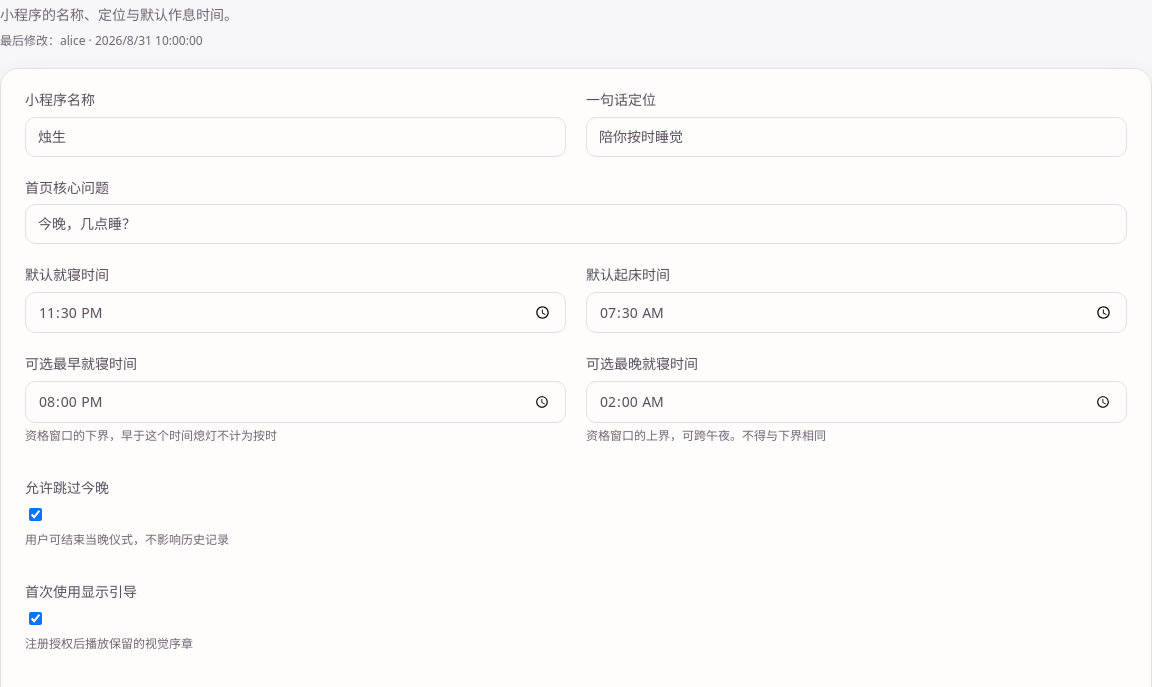
Test case: 基础设置页 › 改动后先走 dry_run，再弹确认窗展示 diff
Replace the text in the field labelled "一句话定位" with "陪你好好睡" at coordinates (856, 137), box [586, 117, 1127, 157]
(page scrolled)
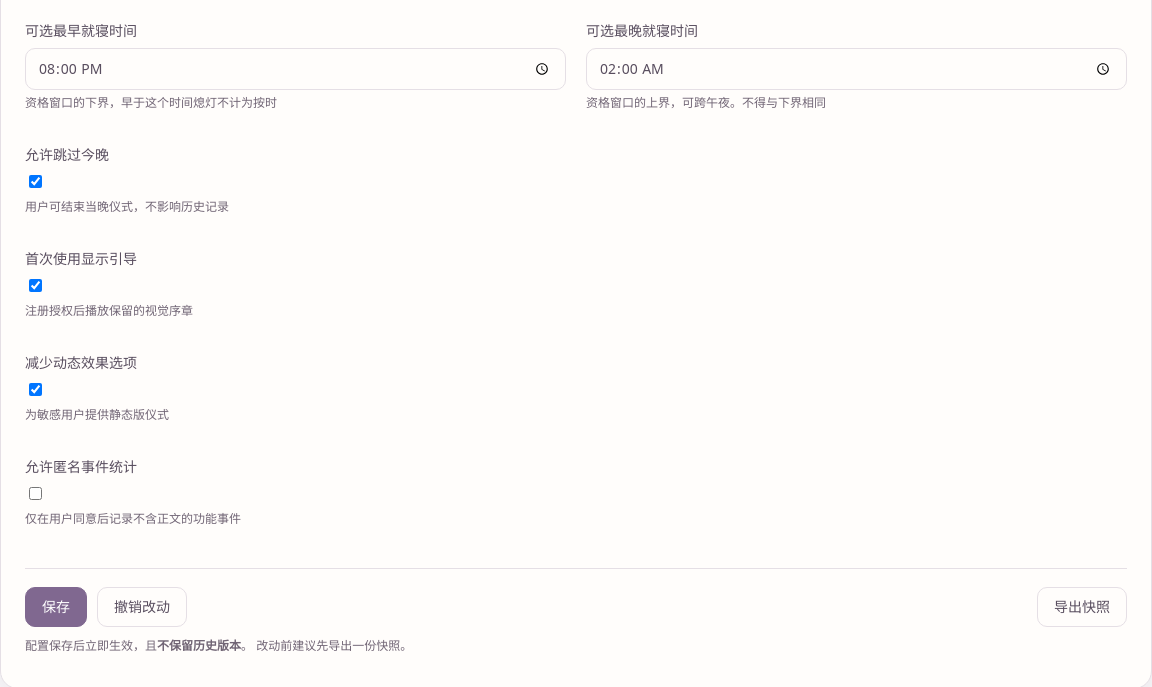
Click the button "保存" at coordinates (56, 607), box [25, 587, 87, 627]
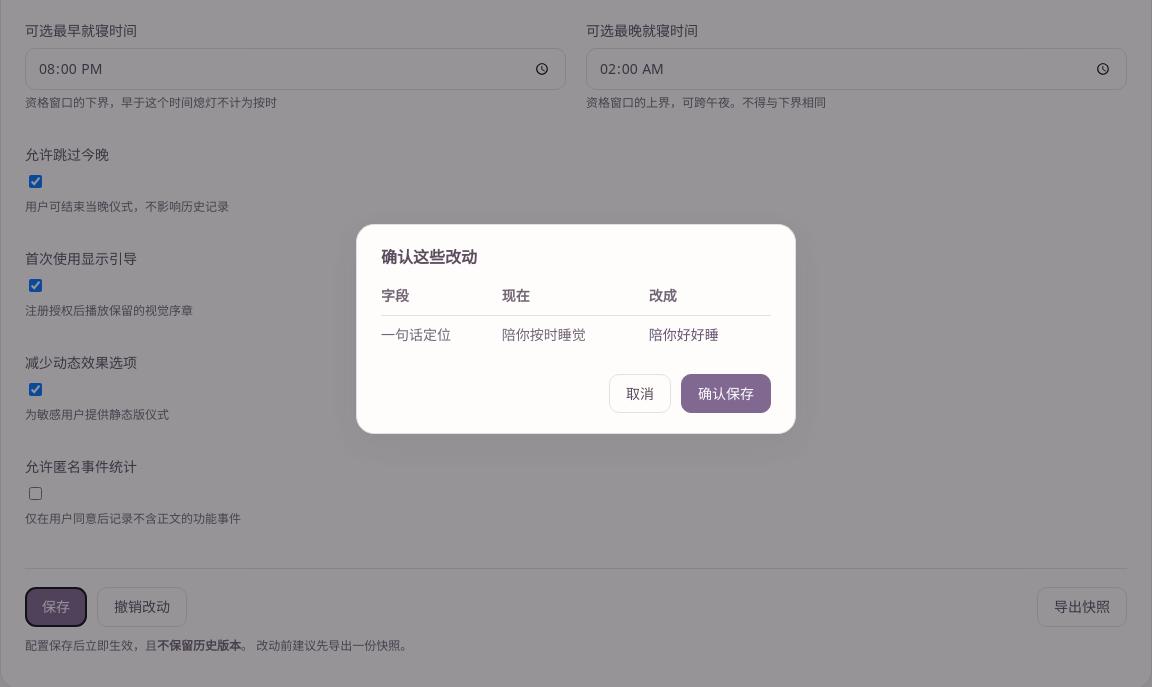
Expected: the text "一句话定位" is shown, [381, 316, 501, 354]
Expected: the text "陪你按时睡觉" is shown, [501, 316, 648, 354]
Expected: the text "陪你好好睡" is shown, [648, 316, 771, 354]
